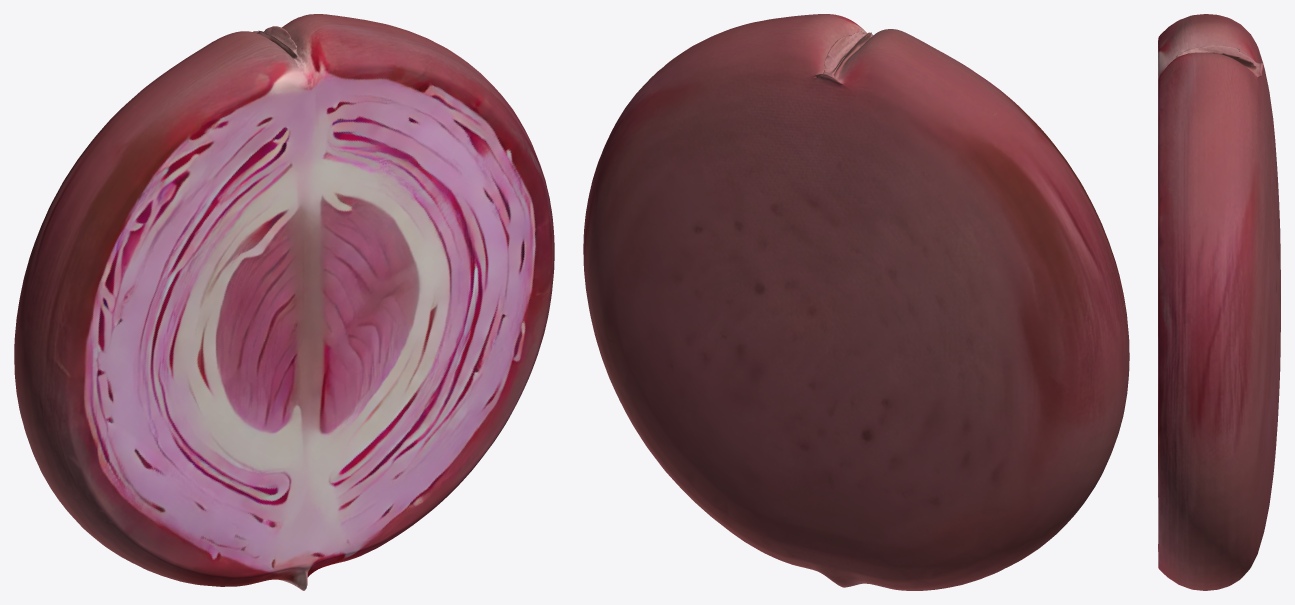
The model's file is cow_omasum.glb.
The picture shows the model from 3 angles, left to right: view 1: azimuth 30°, elevation 25°; view 2: azimuth 150°, elevation 25°; view 3: azimuth 270°, elevation 25°; orthographic projection. The views are drawn at different scales.
Parts seen in each view (by area): view 1: model; view 2: model; view 3: model.
Part boxes in pixels (x1,y1,x2,y2): model: (14, 14, 554, 590); model: (583, 14, 1129, 590); model: (1158, 14, 1280, 590).
Size of the model in its own units: 1.9 by 1.9 by 0.403.
1 material, 1 textured.
